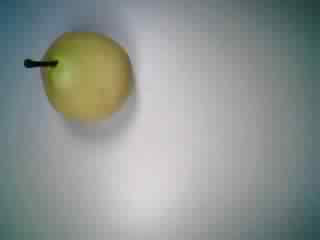pear: (22, 24, 141, 130)
